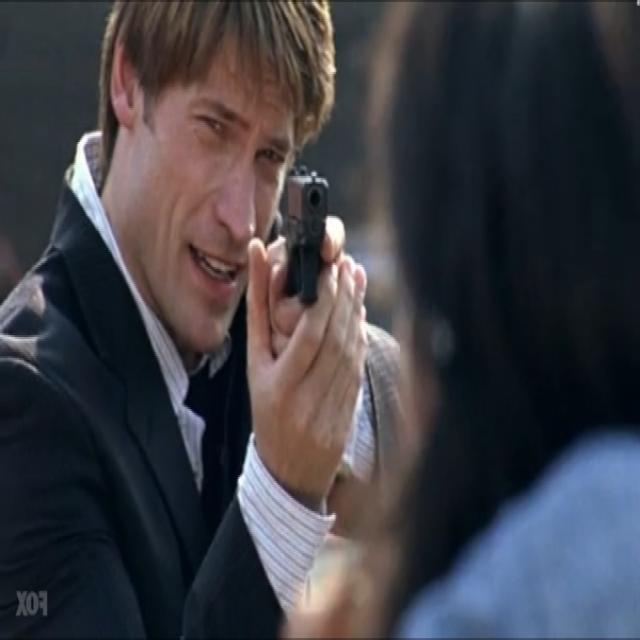weapons: (270, 144, 350, 368)
